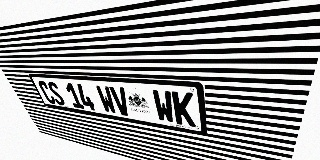1: (63, 83, 85, 109)
4: (74, 83, 96, 111)
C: (37, 81, 57, 104)
K: (171, 91, 196, 127)
S: (46, 81, 66, 106)
V: (109, 86, 132, 117)
W: (151, 89, 175, 124), (95, 85, 118, 114)
